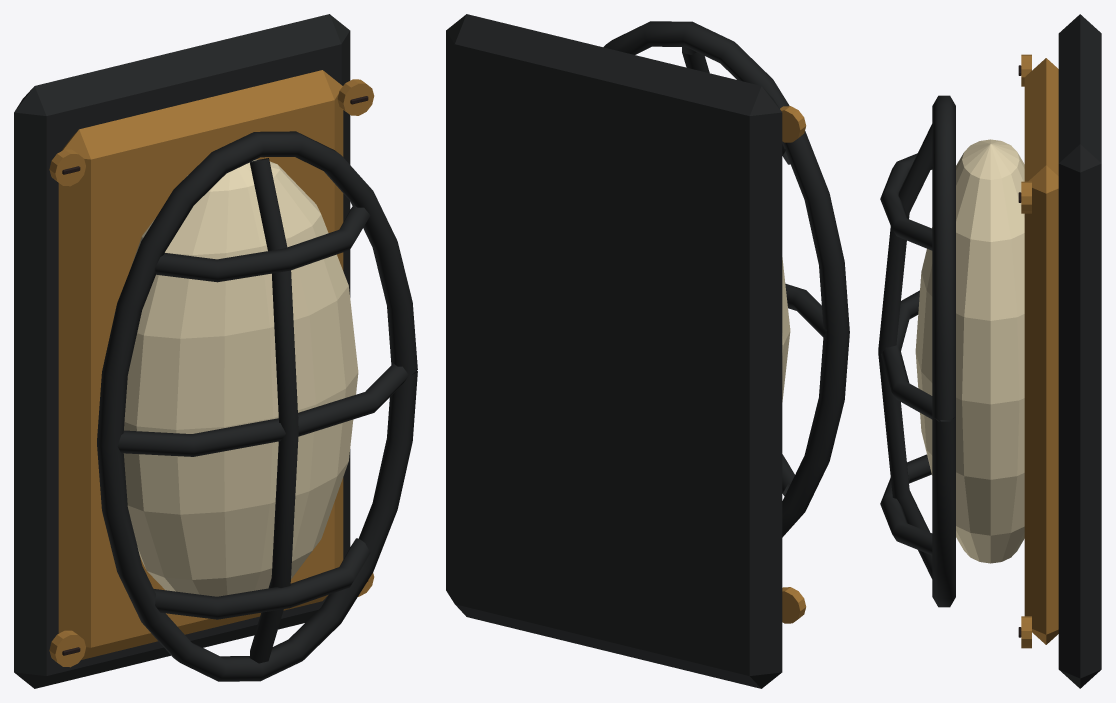
Rendered from CellarBulkheadLight.glb.
The picture shows the model from 3 angles, left to right: view 1: azimuth 30°, elevation 25°; view 2: azimuth 150°, elevation 25°; view 3: azimuth 270°, elevation 25°; orthographic projection. The views are drawn at different scales.
Visible parts, largest first — view 1: FrostedDiffuser, HousingRim, CastIronBack, ProtectiveOval, CageCentreRib, CageCrossbar.001, CageCrossbar, CageCrossbar.002, BrassScrew.003, BrassScrew.002, BrassScrew.005; view 2: CastIronBack, ProtectiveOval, CageCrossbar.001, BrassScrew.003, BrassScrew.002, FrostedDiffuser; view 3: FrostedDiffuser, CastIronBack, HousingRim, ProtectiveOval, CageCentreRib, CageCrossbar.001, CageCrossbar.002, CageCrossbar, BrassScrew.004, BrassScrew.005.
Part boxes in pixels (x1,y1,x2,y2): FrostedDiffuser: (114, 159, 358, 596); HousingRim: (58, 70, 343, 659); CastIronBack: (14, 14, 350, 688); ProtectiveOval: (97, 131, 417, 681); CageCentreRib: (249, 158, 298, 663); CageCrossbar.001: (117, 363, 408, 456); CageCrossbar: (153, 538, 370, 619); CageCrossbar.002: (155, 205, 370, 282); BrassScrew.003: (49, 149, 85, 186); BrassScrew.002: (49, 630, 85, 667); BrassScrew.005: (337, 79, 374, 115); CastIronBack: (446, 14, 782, 688); ProtectiveOval: (603, 21, 849, 537); CageCrossbar.001: (785, 283, 826, 338); BrassScrew.003: (780, 106, 806, 142); BrassScrew.002: (782, 587, 806, 623); FrostedDiffuser: (782, 257, 790, 401); FrostedDiffuser: (915, 139, 1024, 563); CastIronBack: (1058, 14, 1101, 688); HousingRim: (1024, 58, 1058, 644); ProtectiveOval: (932, 95, 955, 607); CageCentreRib: (878, 124, 932, 578); CageCrossbar.001: (881, 290, 952, 421); CageCrossbar.002: (880, 153, 932, 250); CageCrossbar: (880, 454, 932, 555); BrassScrew.004: (1021, 616, 1031, 648); BrassScrew.005: (1021, 181, 1031, 213).
Size of the model in its own units: 0.98 by 1.68 by 0.6242.
